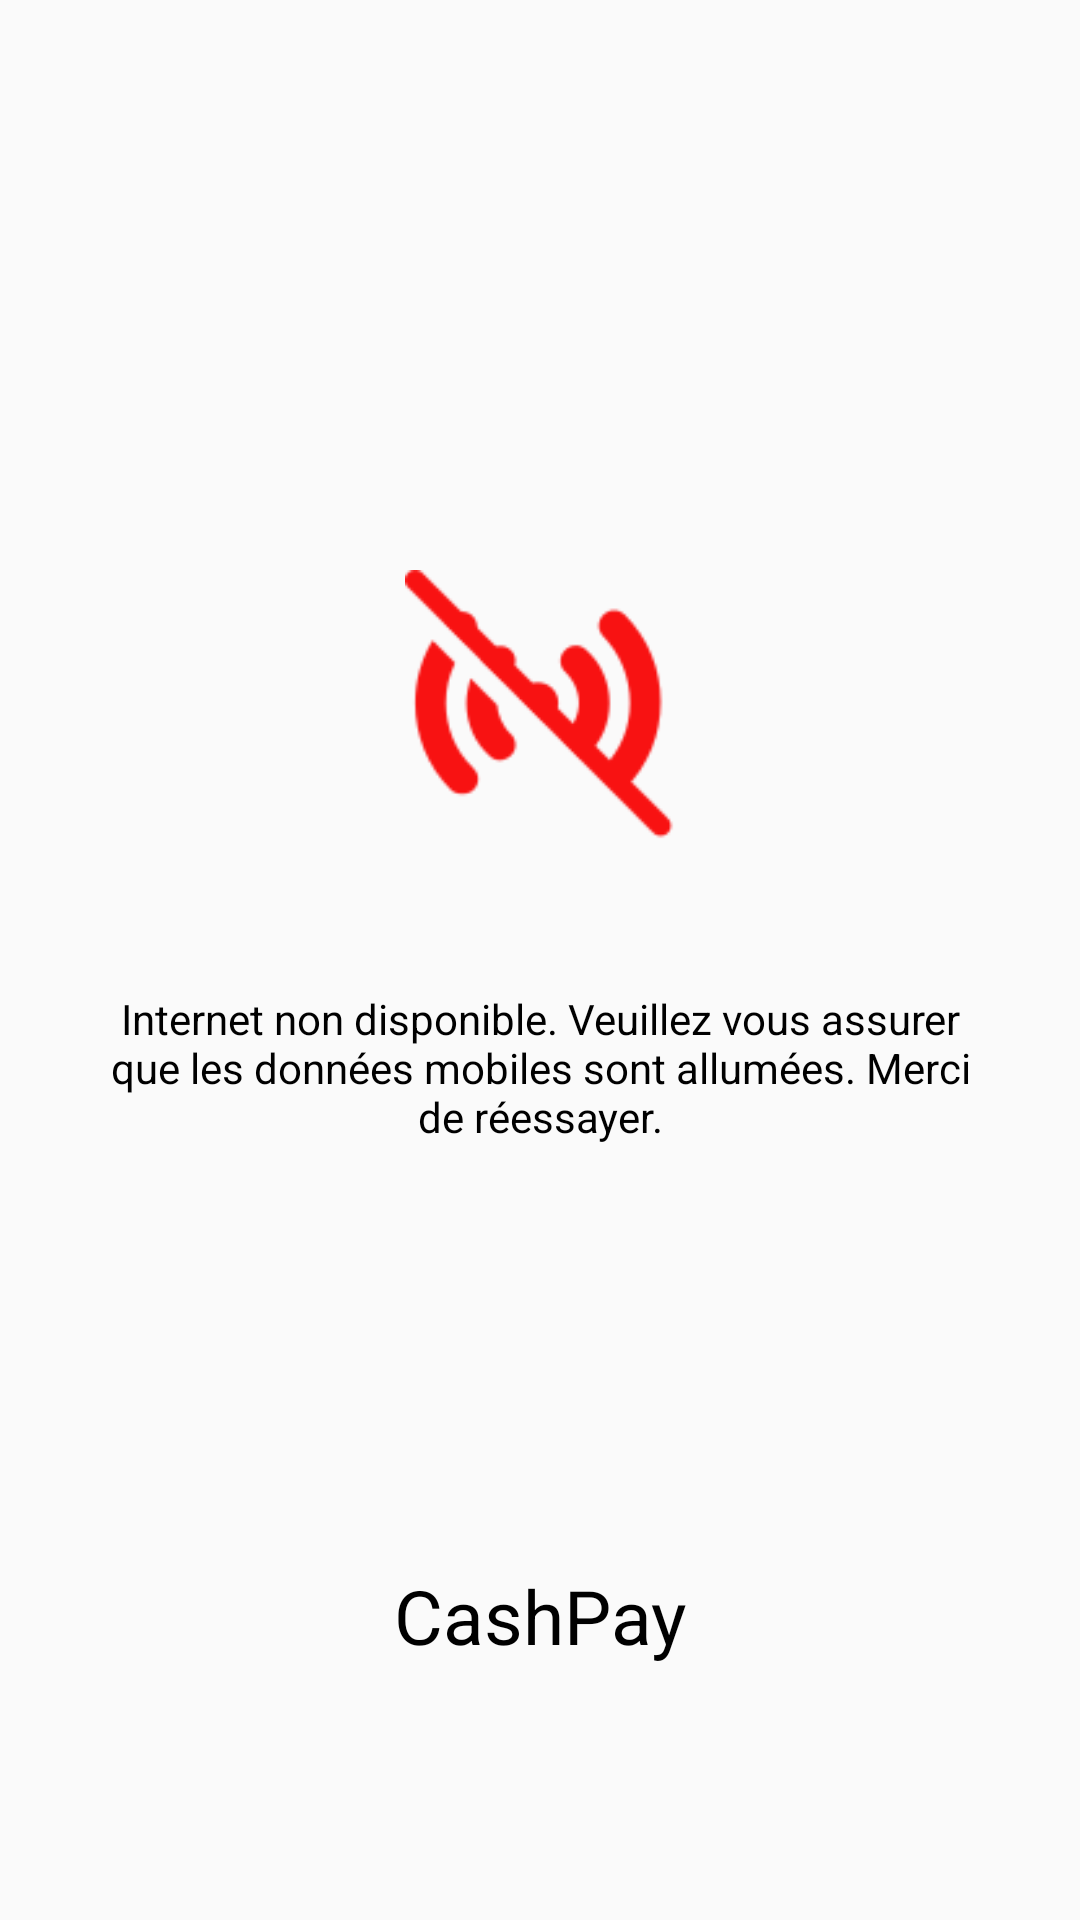

Screen size 1080 x 1920. Icon name, then its center in pixels as (x=x, y=y):
offline: (x=539, y=704)
